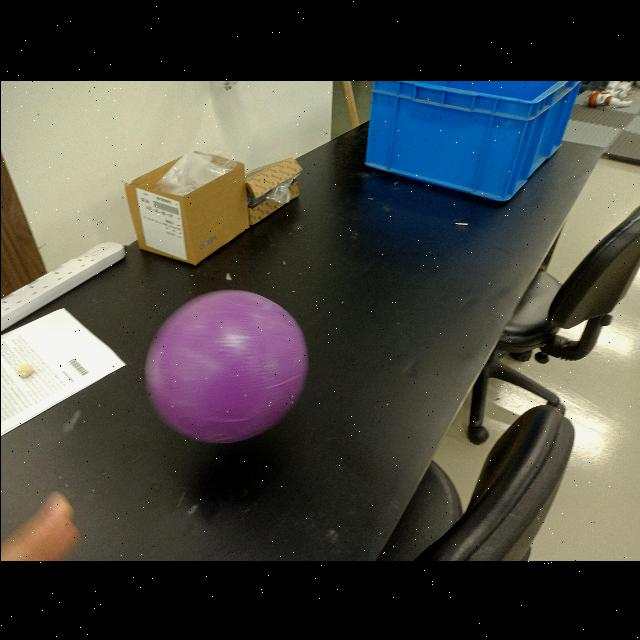P: (146, 288, 308, 439)
